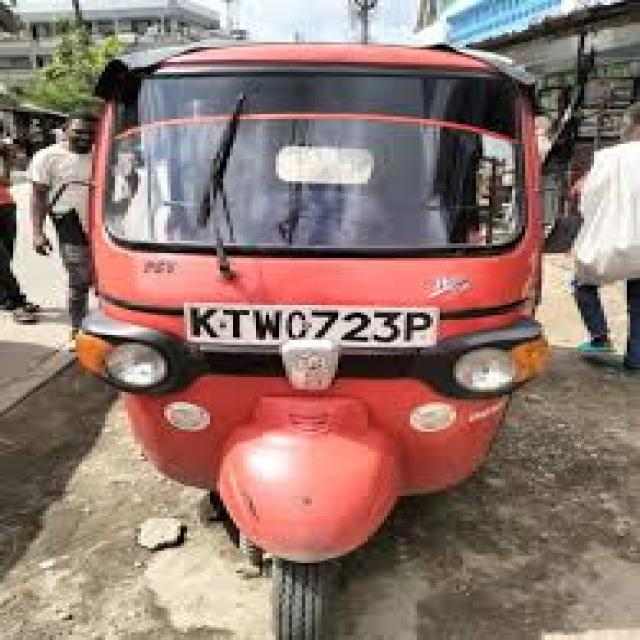tuktuk: (2, 10, 622, 640)
